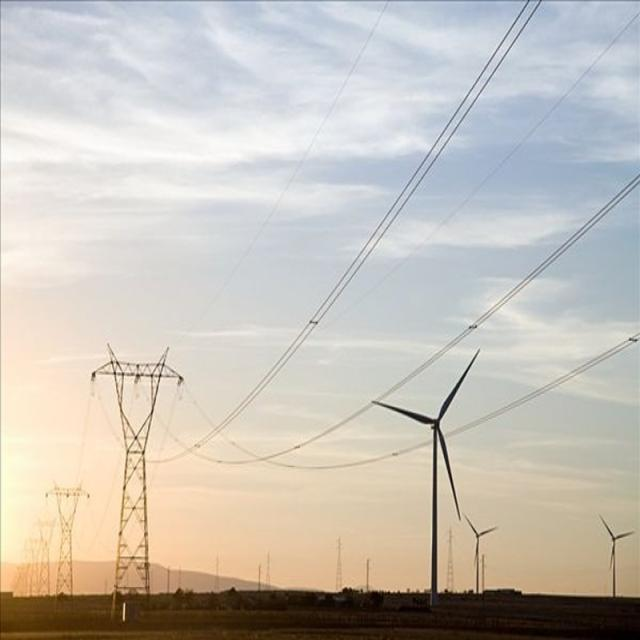non-critical vegetation: (75, 335, 182, 587), (49, 472, 85, 600)
